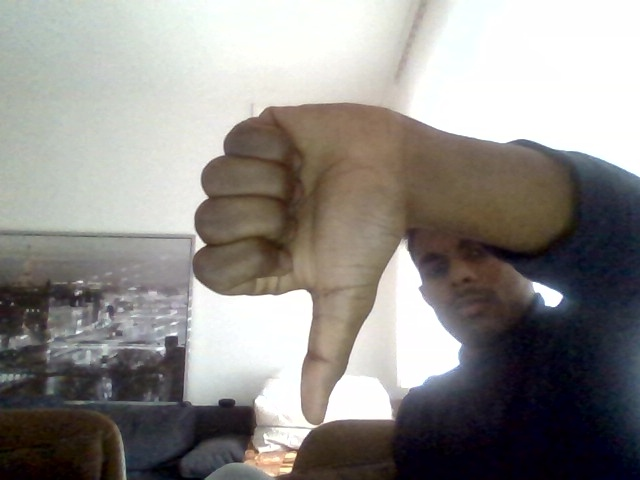td: (188, 102, 409, 427)
